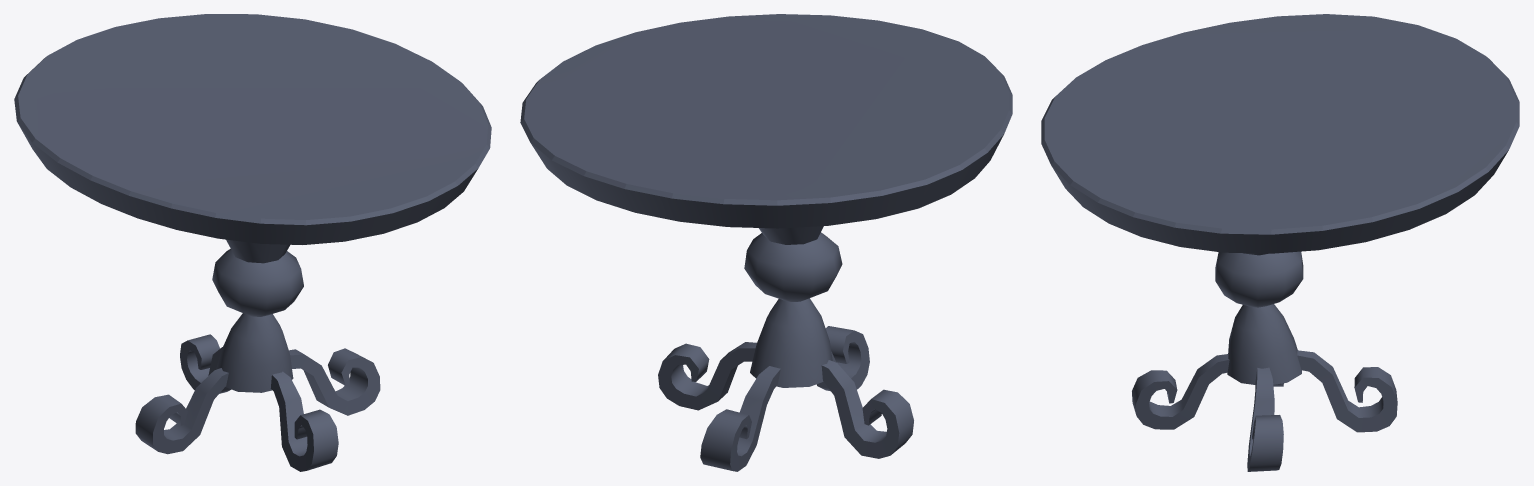
Rendered from Table.FBX.
3 views of the same model, side by side, from view 1: azimuth 30°, elevation 25°; view 2: azimuth 150°, elevation 25°; view 3: azimuth 270°, elevation 25° (orthographic). The views are drawn at different scales.
Visible parts, largest first — view 1: Table; view 2: Table; view 3: Table.
Part boxes in pixels (<box>): Table: <box>14,14,491,471</box>; Table: <box>520,14,1012,471</box>; Table: <box>1041,14,1519,471</box>.
Bounding box in the file's own units: 119 × 89.32 × 121.
